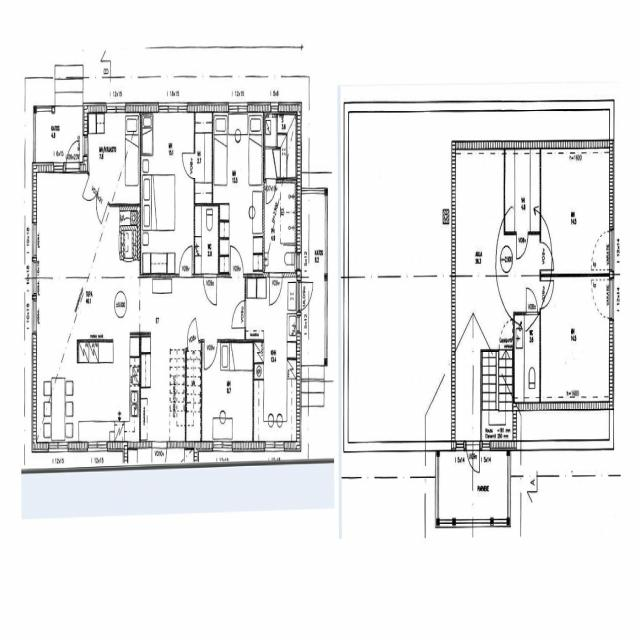door: (151, 518, 167, 561), (82, 173, 99, 210), (92, 187, 108, 224), (152, 442, 166, 479), (66, 134, 79, 173), (466, 441, 479, 478), (185, 318, 199, 351), (297, 282, 314, 309), (203, 274, 217, 306), (230, 246, 243, 278), (179, 246, 192, 278), (204, 339, 217, 371), (269, 274, 282, 305), (540, 242, 554, 270), (232, 300, 246, 327), (540, 281, 554, 308), (182, 152, 196, 178), (516, 230, 528, 258), (526, 288, 537, 316), (266, 178, 276, 204)
